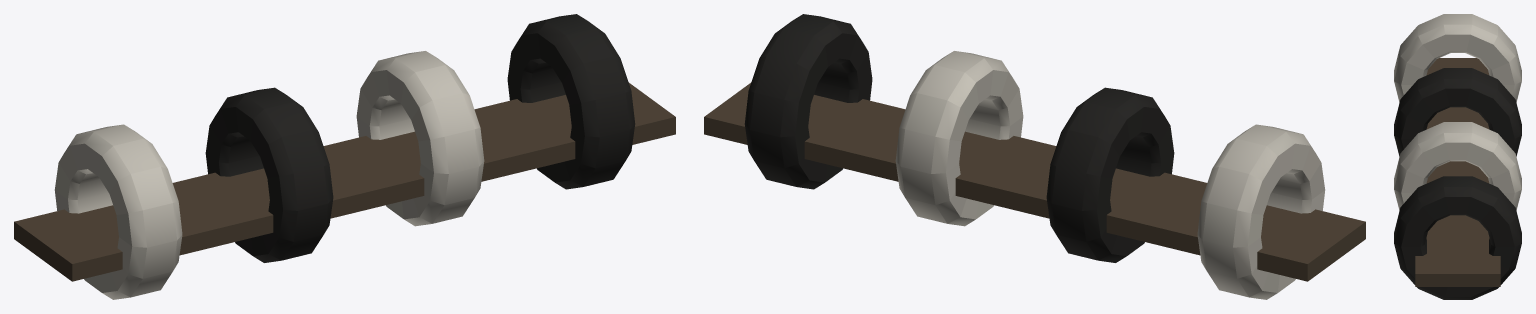
File: tyre_wall.glb
3 renders of one model, left to right at view 1: azimuth 30°, elevation 25°; view 2: azimuth 150°, elevation 25°; view 3: azimuth 270°, elevation 25°, orthographic. The views are drawn at different scales.
Parts seen in each view (by area): view 1: tyre_wall; view 2: tyre_wall; view 3: tyre_wall.
Part boxes in pixels (<box>): tyre_wall: <box>14,14,675,299</box>; tyre_wall: <box>704,14,1365,299</box>; tyre_wall: <box>1394,14,1521,299</box>.
Size of the model in its own units: 3.6 by 0.8774 by 0.9.
